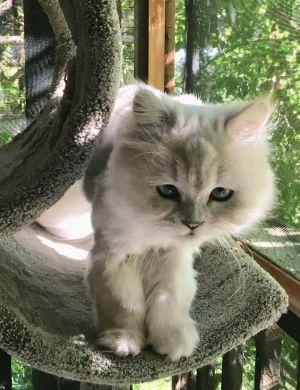persian: (104, 75, 279, 265)
